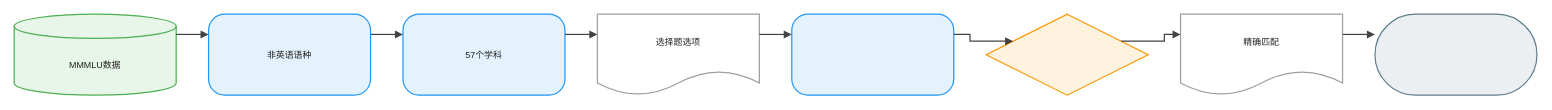
The diagram is 1552 pixels wide and 110 high, and some of its shapes have lost their labels. Each missing label, with the centre of its shape:
5-shot提示: [872,54]
PPL评分: [1066,54]
跨语种准确率: [1455,54]
